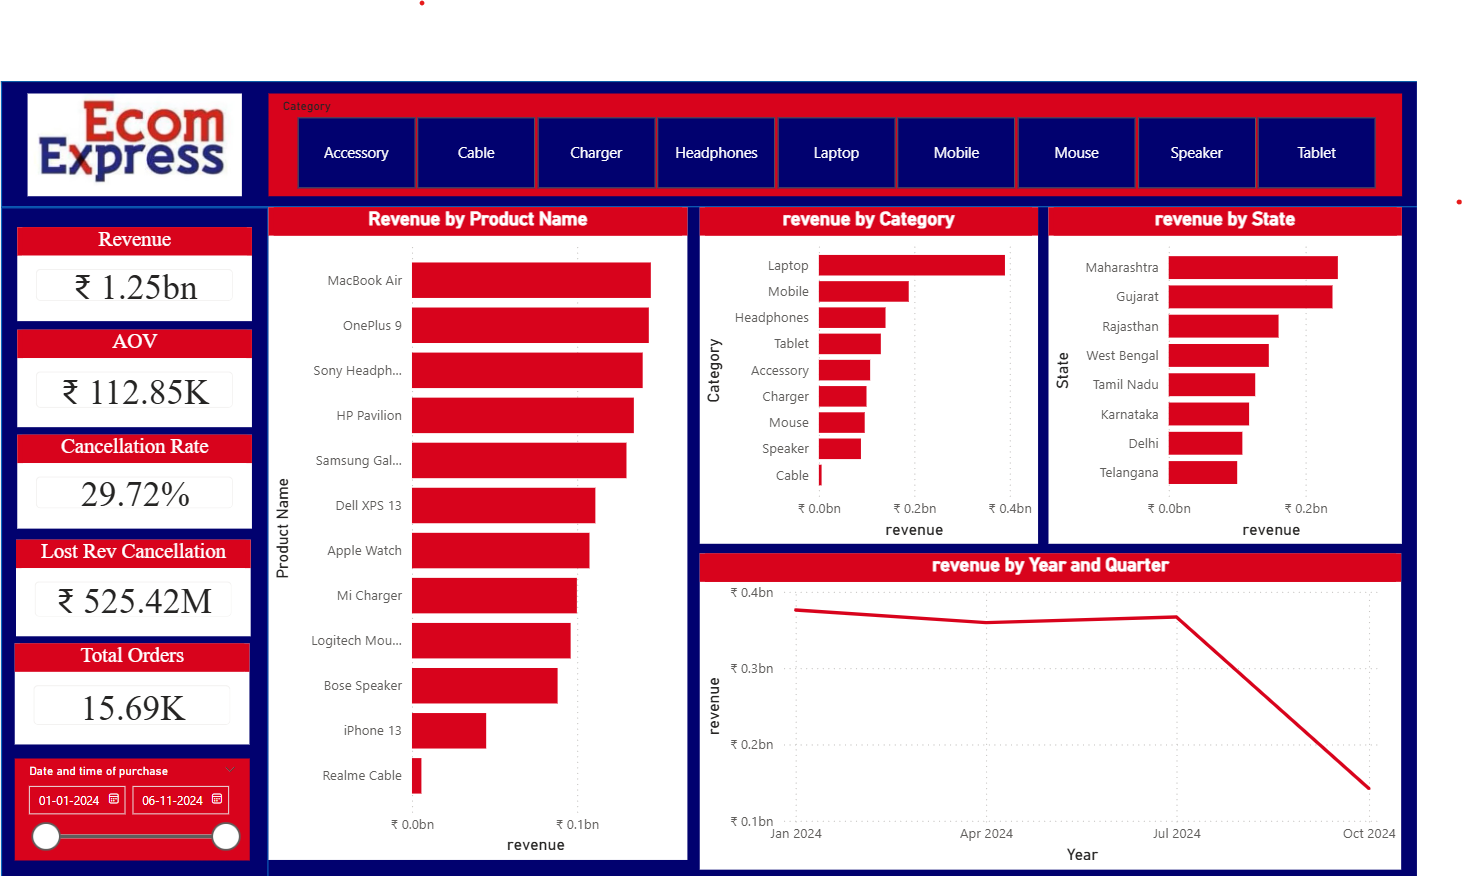

The dashboard page shown, as its layout file describes it:
{"tool":"powerbi","page":{"name":"Page 1","canvas":[1280,720],"ordinal":0},"visuals":[{"type":"shape","box":[0,0,1280,114.1],"z":0},{"type":"image","box":[0,10.8,241.4,92.5],"z":1000},{"type":"shape","box":[0,114,241.6,606.4],"z":2000},{"type":"barChart","title":"Revenue by Product Name","fields":{"Y":["table.revenue"],"Category":["products.Product Name"]},"box":[241.1,114.2,378.6,589.4],"z":3000},{"type":"barChart","fields":{"Y":["table.revenue"],"Category":["products.Category"]},"box":[631.4,114.2,305.2,304],"z":4000},{"type":"lineChart","fields":{"Category":["orders.Date and time of purchase.Variation.Date Hierarchy.Year","orders.Date and time of purchase.Variation.Date Hierarchy.Quarter","orders.Date and time of purchase.Variation.Date Hierarchy.Month","orders.Date and time of purchase.Variation.Date Hierarchy.Day"],"Y":["table.revenue"]},"box":[631.4,426.4,633.7,285.4],"z":5000},{"type":"barChart","fields":{"Y":["table.revenue"],"Category":["customers.State"]},"box":[945.9,114.2,319.2,304],"z":6000},{"type":"slicer","fields":{"Values":["products.Category"]},"box":[241.6,11.3,1024.1,92.6],"z":7000},{"type":"cardVisual","title":"Revenue","fields":{"Data":["table.revenue"]},"box":[14.7,132.1,212.3,84.7],"z":8000},{"type":"cardVisual","title":"AOV","fields":{"Data":["table.Avg_ord_value"]},"box":[14.9,224.5,212.3,88.1],"z":9000},{"type":"cardVisual","title":"Cancellation Rate","fields":{"Data":["table.cacellation rate"]},"box":[14.7,319.8,212.3,84.7],"z":10000},{"type":"cardVisual","title":"Lost Rev Cancellation","fields":{"Data":["table.lost_rev_cancellation"]},"box":[13.8,414.9,212.3,86.9],"z":11000},{"type":"cardVisual","title":"Total Orders","fields":{"Data":["CountNonNull(orders.OrderID)"]},"box":[12.6,508.6,212.3,91.5],"z":12000},{"type":"slicer","fields":{"Values":["orders.Date and time of purchase"]},"box":[12.8,611.6,212,92],"z":13000}]}

Visuals, with their boxes in screenshot pixels (x1, y1, x2, y2):
shape: 0 72 1431 201
image: 0 85 261 189
shape: 0 201 261 875
"Revenue by Product Name" barChart: 260 201 687 865
barChart - table.revenue x products.Category: 700 201 1044 544
lineChart - orders.Date and time of purchase.Variation.Date Hierarchy.Year x orders.Date and time of purchase.Variation.Date Hierarchy.Quarter: 700 553 1415 875
barChart - table.revenue x customers.State: 1055 201 1415 544
slicer - products.Category: 261 85 1415 190
"Revenue" cardVisual: 5 221 244 317
"AOV" cardVisual: 5 325 245 425
"Cancellation Rate" cardVisual: 5 433 244 528
"Lost Rev Cancellation" cardVisual: 4 540 243 638
"Total Orders" cardVisual: 3 646 242 749
slicer - orders.Date and time of purchase: 3 762 242 865
